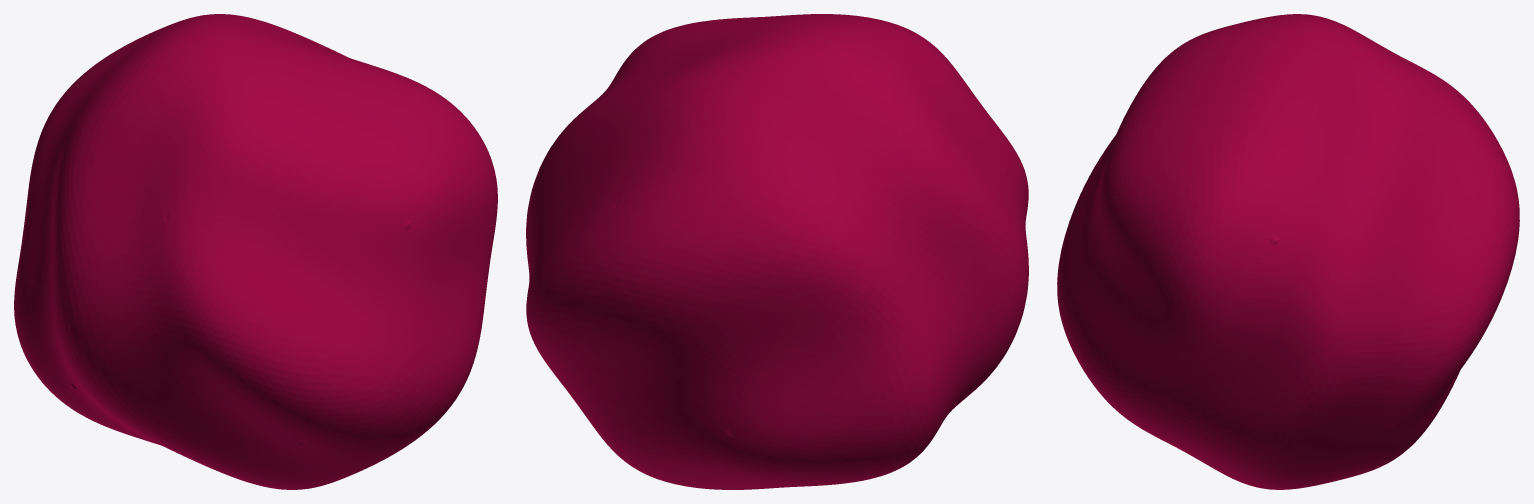
The model's file is Blobbie-04.dae.
The picture shows the model from 3 angles, left to right: view 1: azimuth 30°, elevation 25°; view 2: azimuth 150°, elevation 25°; view 3: azimuth 270°, elevation 25°; orthographic projection. The views are drawn at different scales.
Parts seen in each view (by area): view 1: Blobbie; view 2: Blobbie; view 3: Blobbie.
Boxes of the visible parts, x1,y1,x2,y2 form: Blobbie: (14, 14, 497, 489); Blobbie: (526, 14, 1028, 489); Blobbie: (1057, 14, 1519, 489).
Size of the model in its own units: 2.06 by 2.09 by 2.08.
